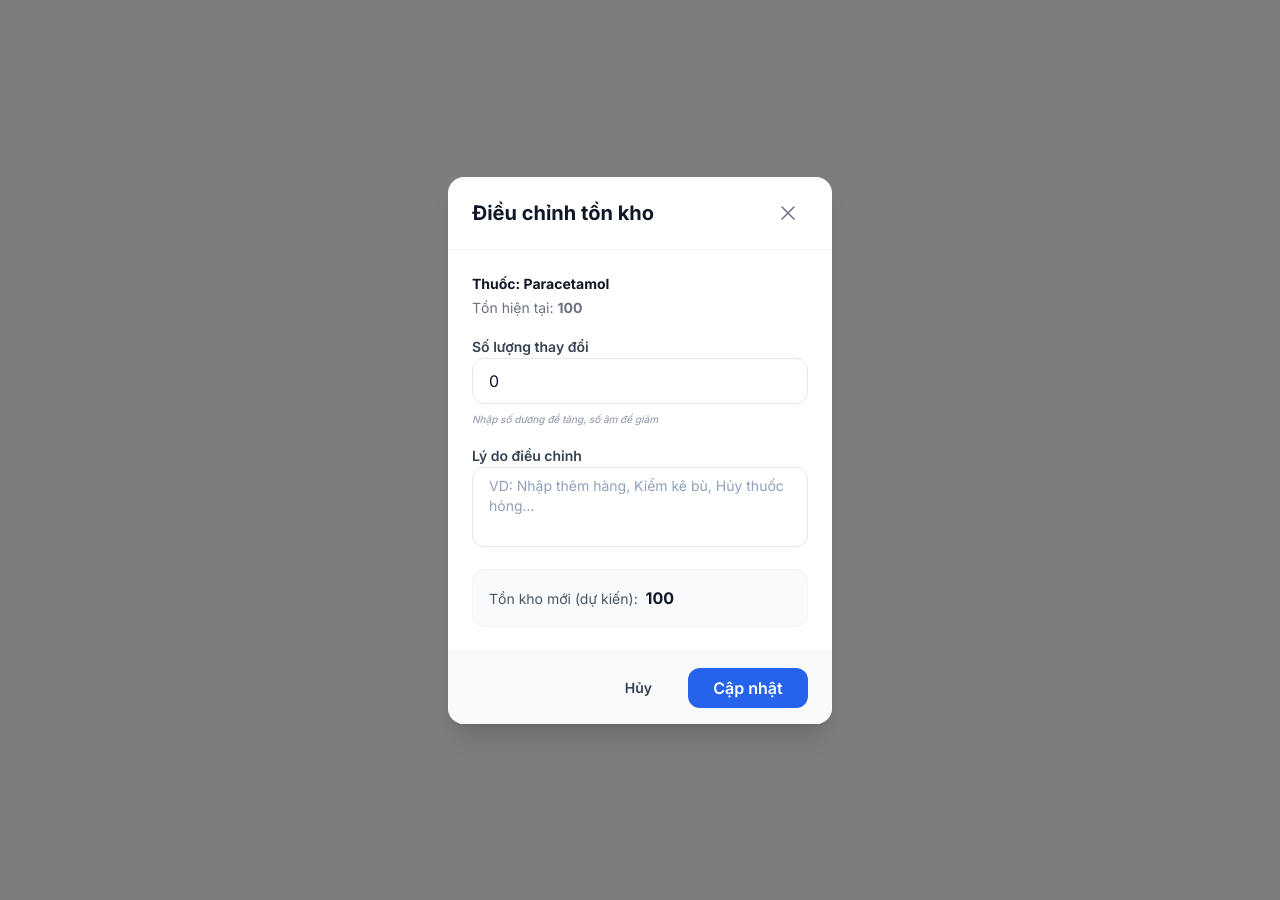
Test: StockAdjustDialog › should show error if adjustment is 0
Click the button "Cập nhật": (748, 688) [688,668,808,708]
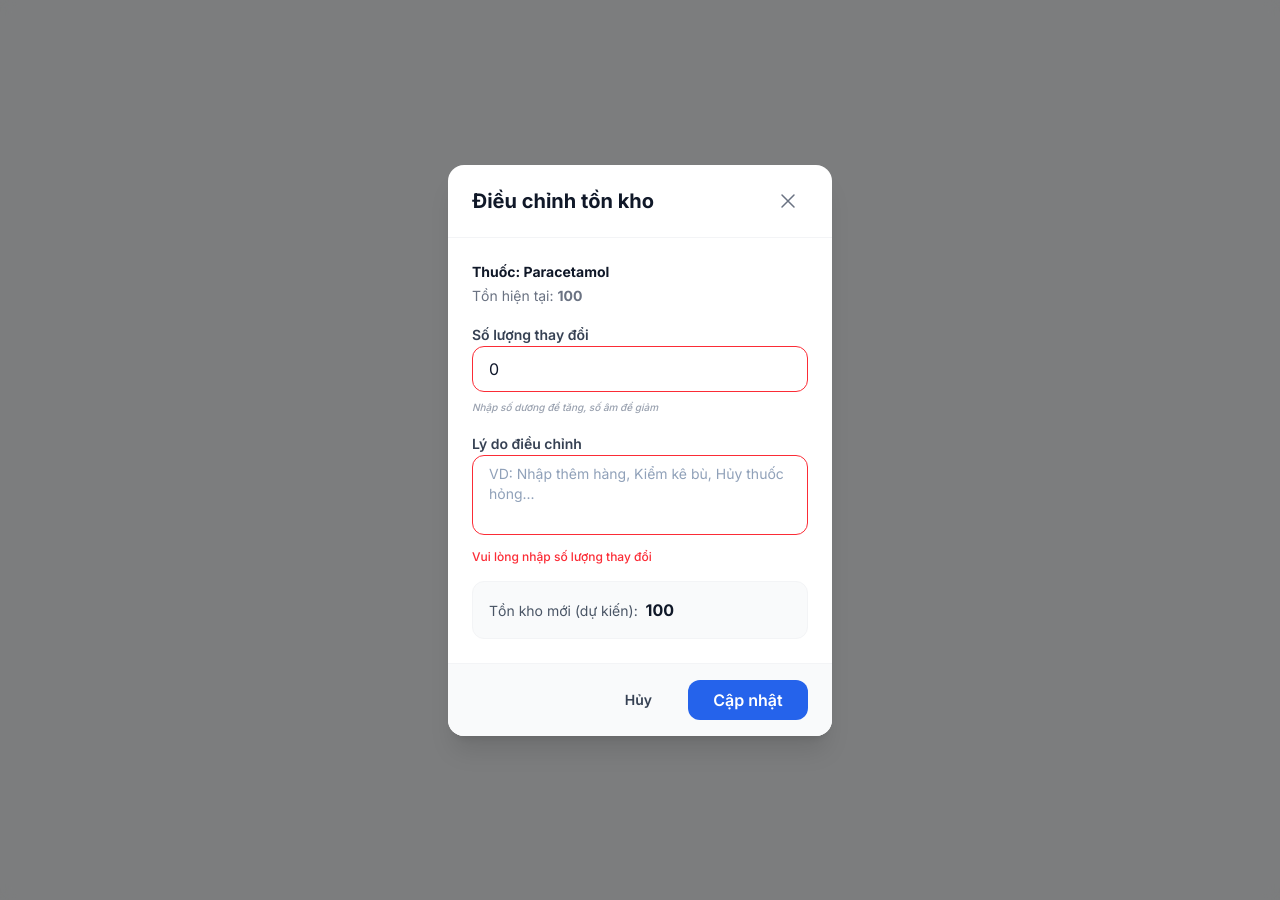
Result: the text "Vui lòng nhập số lượng thay đổi" is shown at [472,548,652,564]
